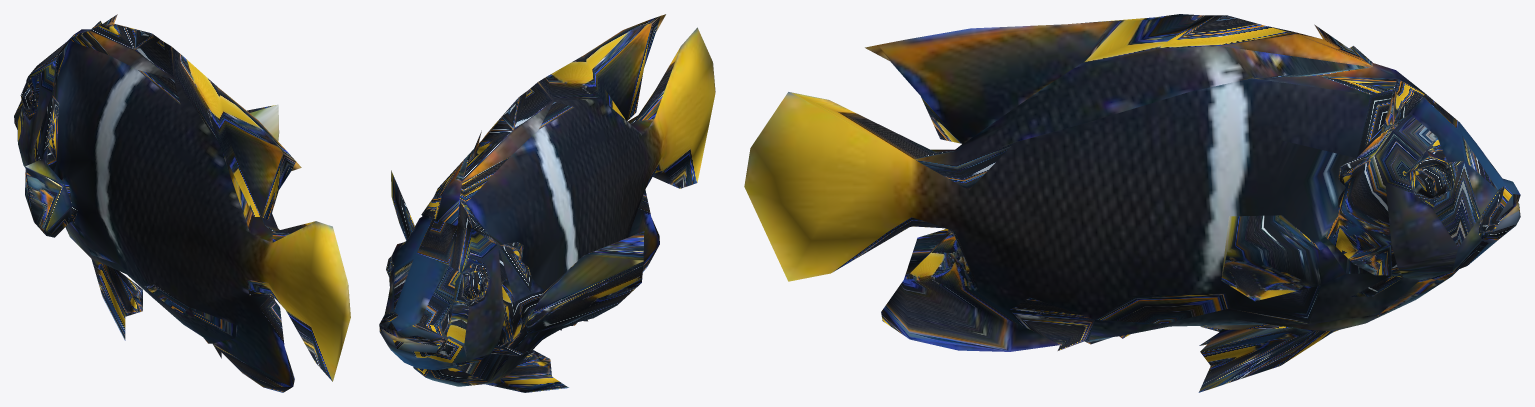
File: koningskeizer-ver.glb
3 views of the same model, side by side, from view 1: azimuth 30°, elevation 25°; view 2: azimuth 150°, elevation 25°; view 3: azimuth 270°, elevation 25° (orthographic). The views are drawn at different scales.
Parts seen in each view (by area): view 1: tripo_node_cf835dc4-f67f-474a-b632-68ff951010b7; view 2: tripo_node_cf835dc4-f67f-474a-b632-68ff951010b7; view 3: tripo_node_cf835dc4-f67f-474a-b632-68ff951010b7.
Part boxes in pixels (<box>): tripo_node_cf835dc4-f67f-474a-b632-68ff951010b7: <box>14,14,350,392</box>; tripo_node_cf835dc4-f67f-474a-b632-68ff951010b7: <box>379,14,715,392</box>; tripo_node_cf835dc4-f67f-474a-b632-68ff951010b7: <box>744,14,1520,392</box>.
Bounding box in the file's own units: 0.1787 × 0.1962 × 0.3886.
1 material, 1 textured.
